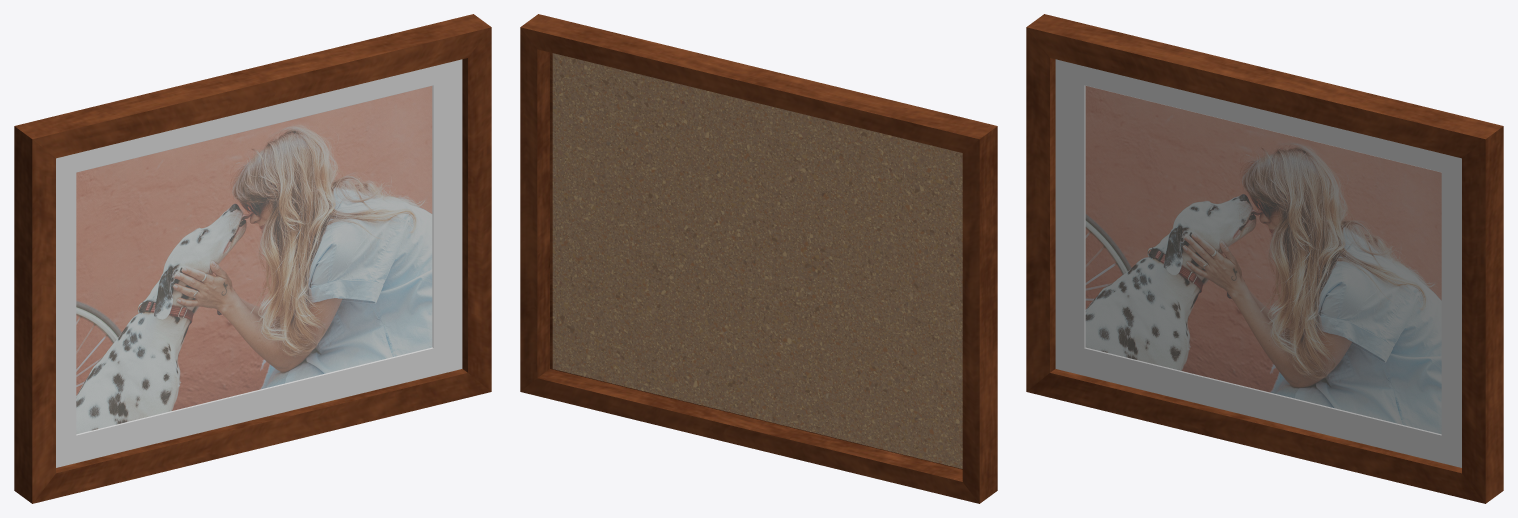
The model's file is ppt.glb.
The picture shows the model from 3 angles, left to right: view 1: azimuth 30°, elevation 25°; view 2: azimuth 150°, elevation 25°; view 3: azimuth 330°, elevation 25°; orthographic projection.
Visible parts, largest first — view 1: Acrylic, Motif, Frame, Passepartout; view 2: Back, Frame; view 3: Acrylic, Motif, Frame, Passepartout.
Boxes of the visible parts, x1,y1,x2,y2 form: Acrylic: (56,60,462,467); Motif: (76,86,432,433); Frame: (14,14,491,503); Passepartout: (56,59,462,467); Back: (552,53,962,468); Frame: (520,14,997,503); Acrylic: (1055,60,1461,467); Motif: (1085,86,1441,433); Frame: (1026,14,1503,503); Passepartout: (1055,59,1461,467).
Bounding box in the file's own units: 0.4143 × 0.3143 × 0.0283.
5 materials, 3 textured.
